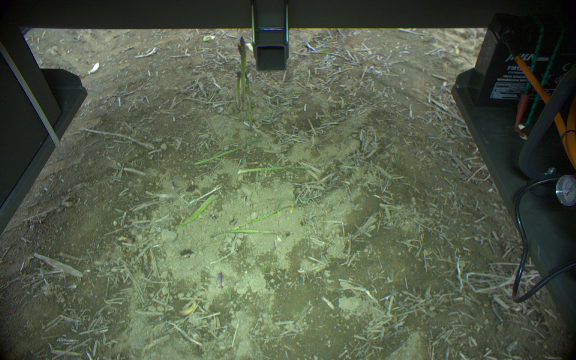aspa: (230, 201, 305, 229), (192, 140, 258, 167), (175, 192, 219, 230), (236, 164, 311, 174), (243, 82, 257, 124), (226, 225, 278, 236), (237, 34, 248, 82), (232, 70, 241, 110)
